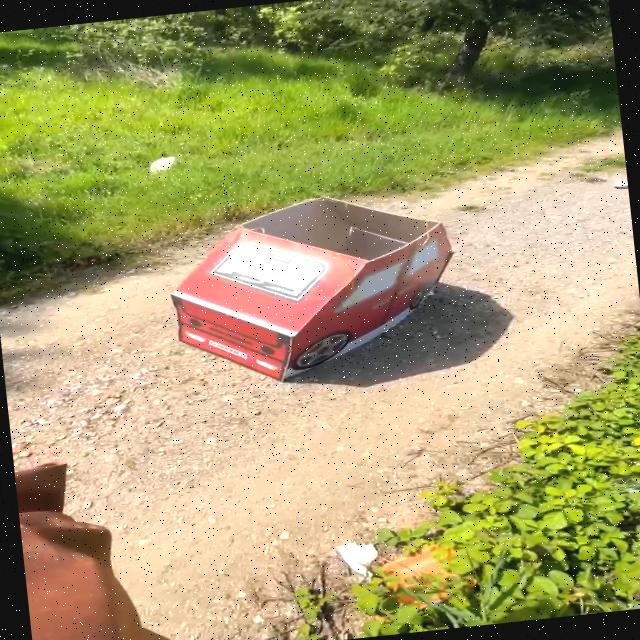red_car: (116, 175, 485, 408)
